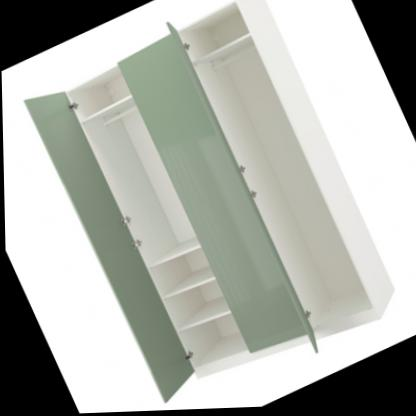Cabinet: (11, 0, 410, 416)
